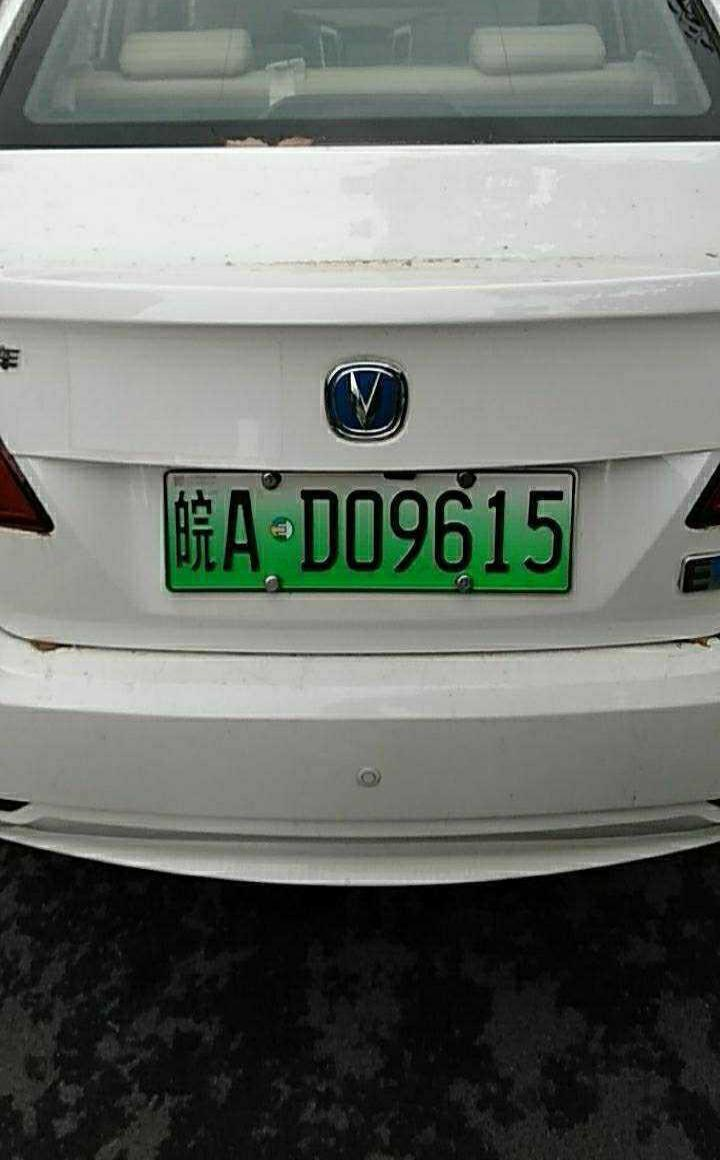car: (157, 464, 585, 596)
